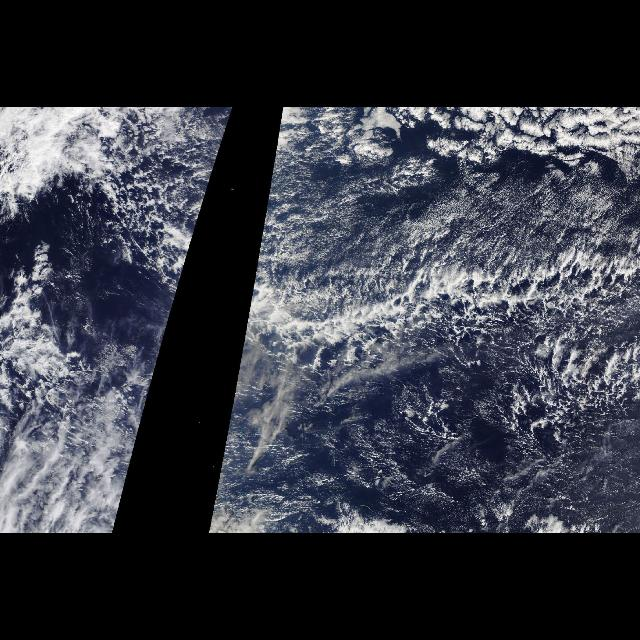Fish: (235, 133, 640, 415), (92, 134, 226, 392)
Gravel: (378, 364, 636, 534)
Sugar: (284, 133, 640, 257)
